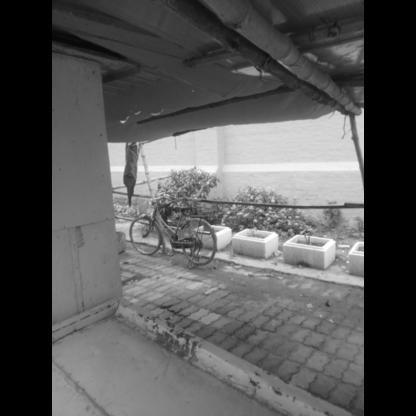Bicycle: (121, 185, 224, 279)
